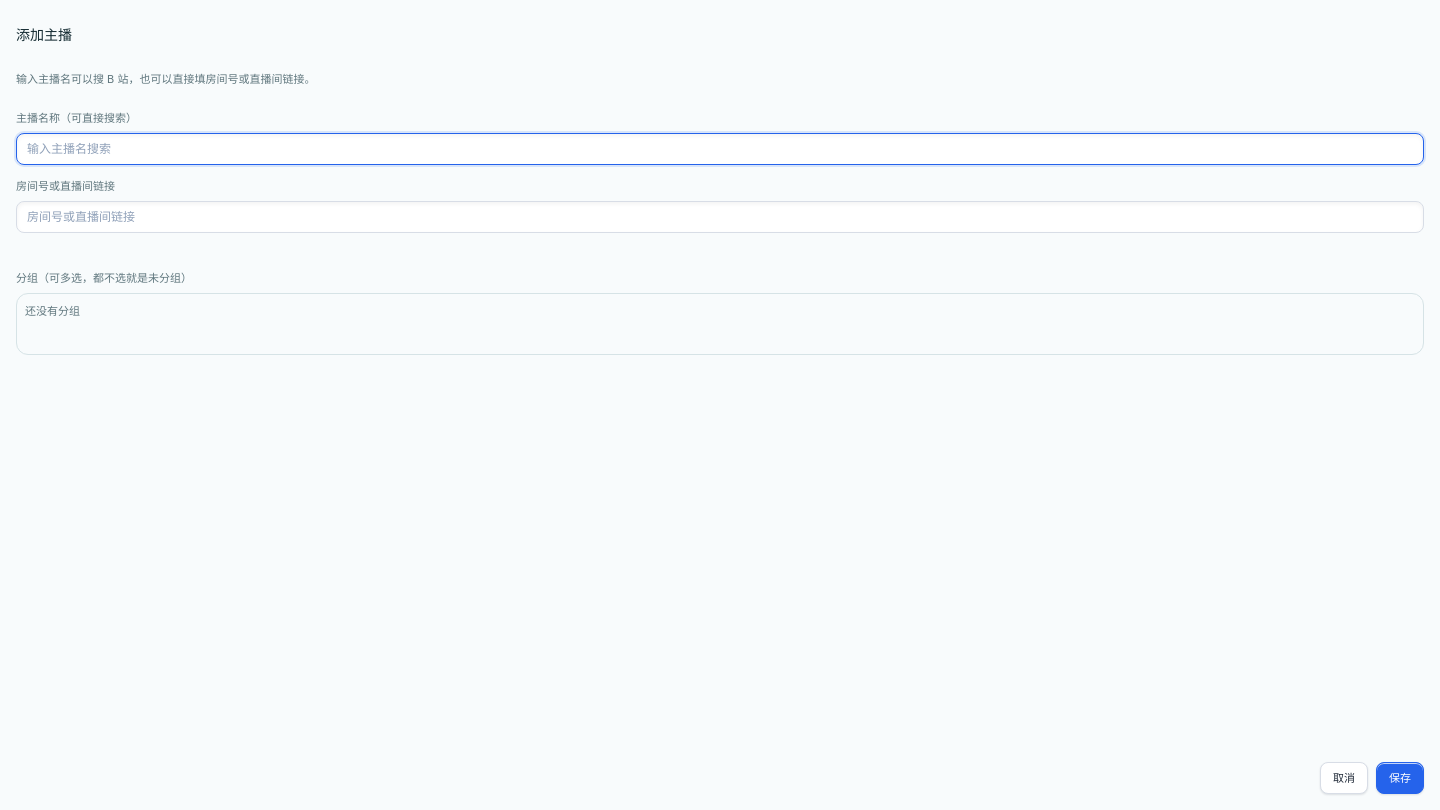
Scenario: 缺房间号时保存被拦下并给出老版文案
Expected: the heading "添加主播" is shown, [16,26,72,43]
Type "深夜电台" into the field labelled "主播名称".
click(720, 149); type("深夜电台")  # box [16,133,1424,165]
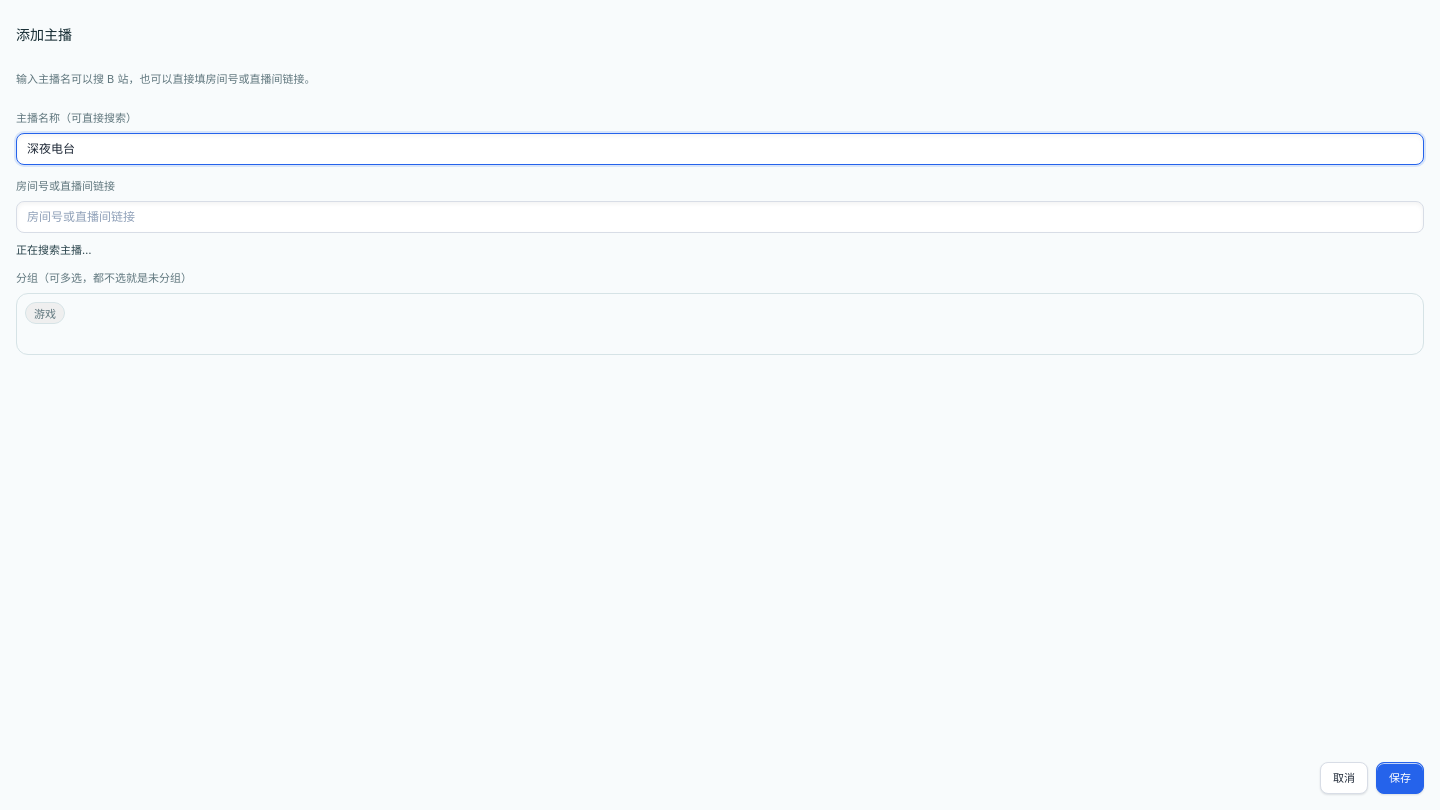
Click the button "保存".
click(1400, 778)  # box [1376,762,1424,794]
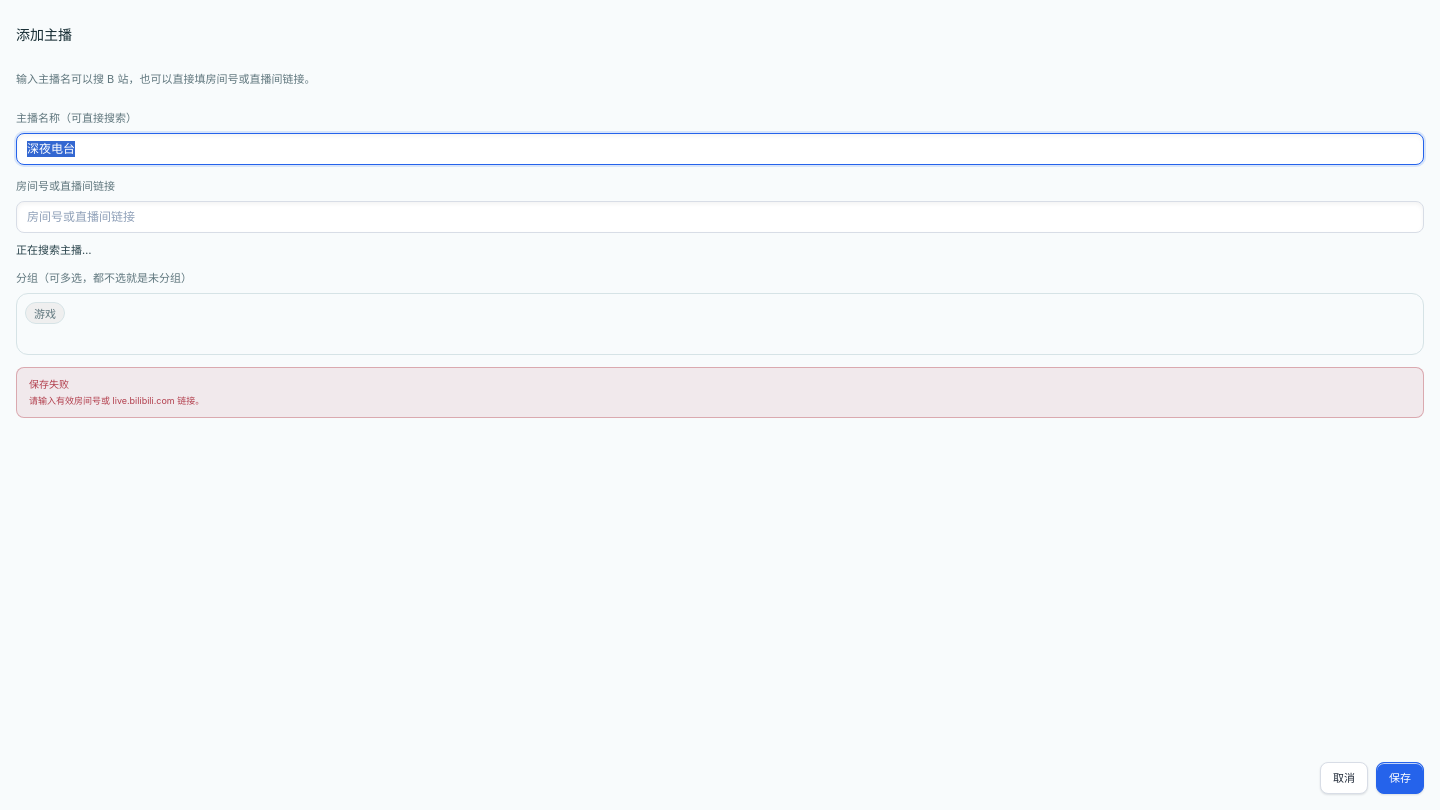
Expected: the text "请输入有效房间号或 live.bilibili.com 链接。" is shown, [29,395,204,406]
